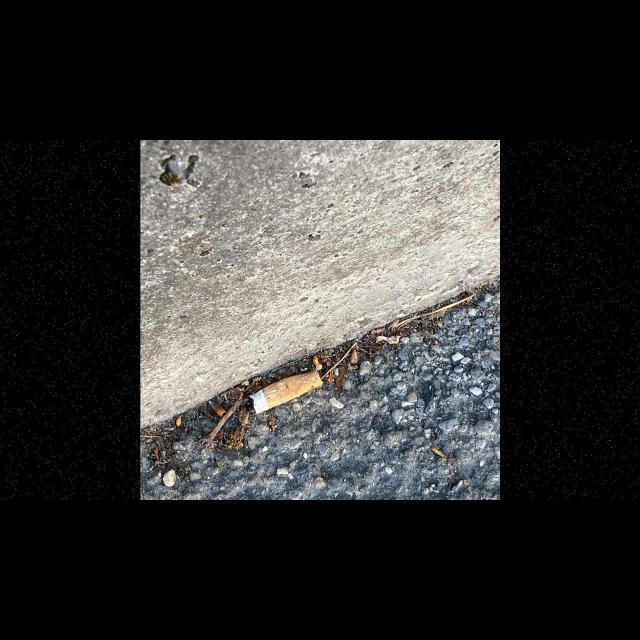cigarette: (243, 368, 324, 416)
